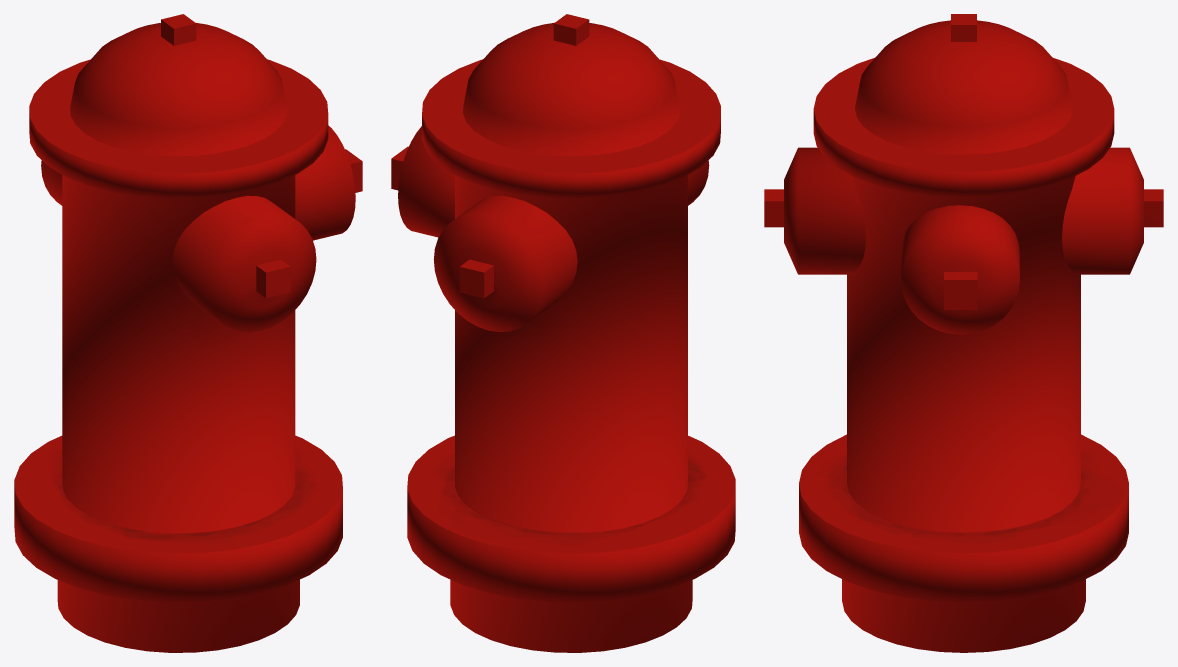
The model's file is Fire-Hydrant.fbx.
The picture shows the model from 3 angles, left to right: view 1: azimuth 30°, elevation 25°; view 2: azimuth 150°, elevation 25°; view 3: azimuth 270°, elevation 25°; orthographic projection.
Visible parts, largest first — view 1: Cylinder; view 2: Cylinder; view 3: Cylinder.
Part boxes in pixels (box(x1,y1,x2,y2)): Cylinder: box(14, 14, 362, 652); Cylinder: box(391, 14, 735, 652); Cylinder: box(764, 14, 1163, 652).
Bounding box in the file's own units: 78.52 × 138 × 85.58.
1 material, 1 textured.
